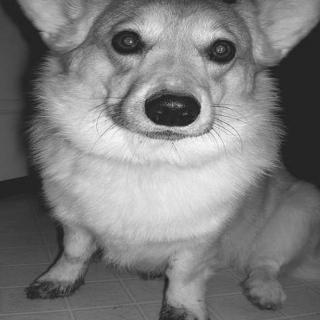dog: (19, 0, 320, 167)
nose: (142, 86, 202, 132)
